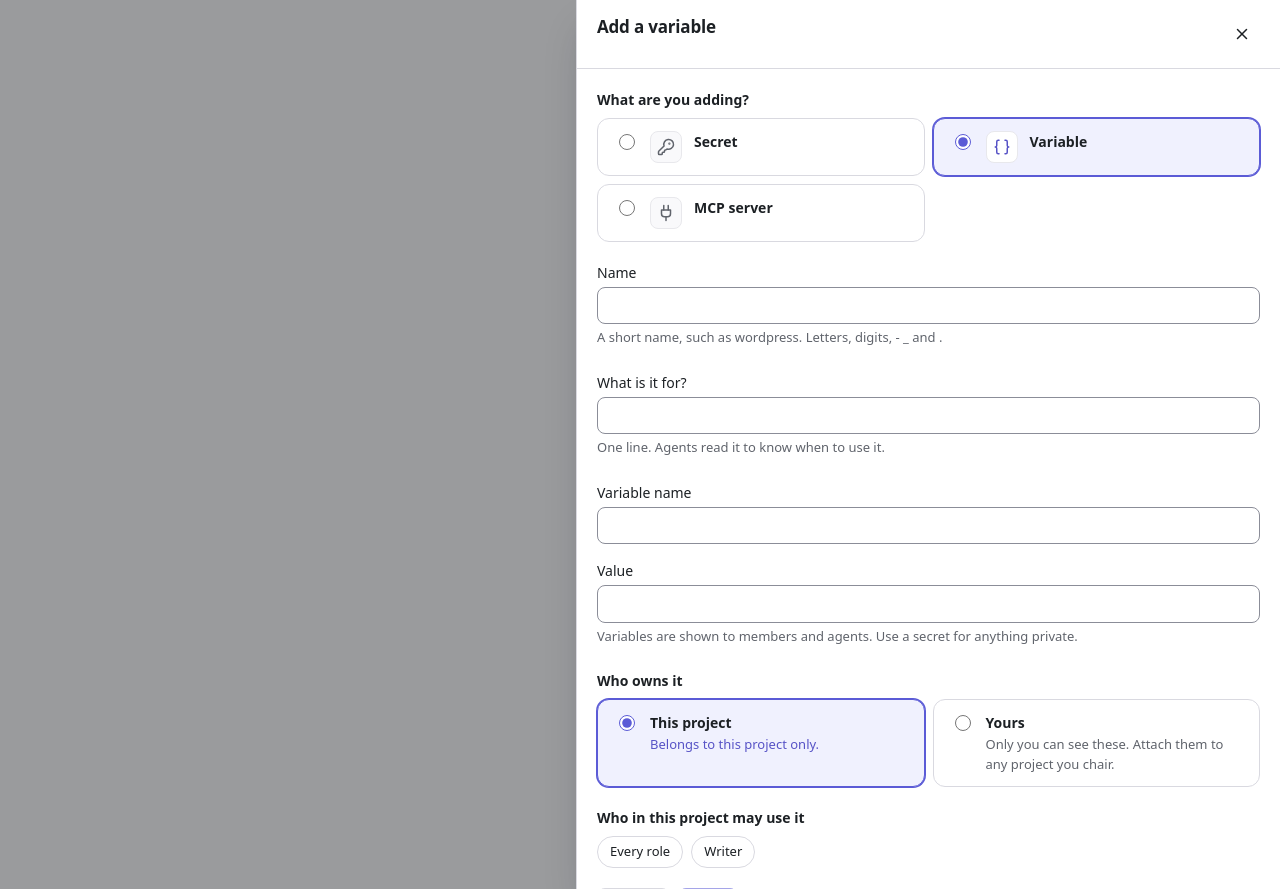
Test case: AddSheet (CON-2, CON-4) › will not save in a project until someone may use it
Click the checkbox labelled "Every role": (640, 852) [597,836,683,868]
(page scrolled)
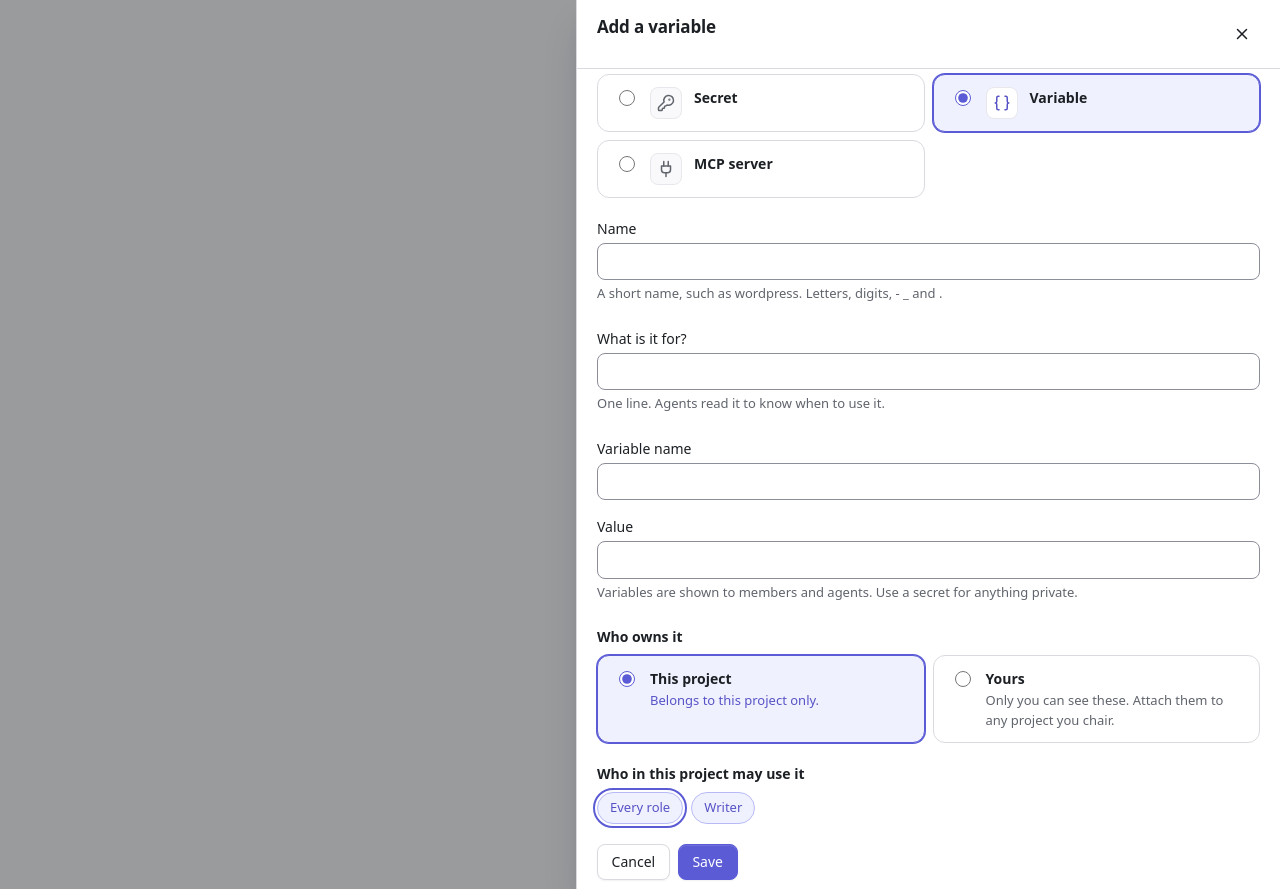
Now the button "Save" is enabled, box [678,844,738,880]
